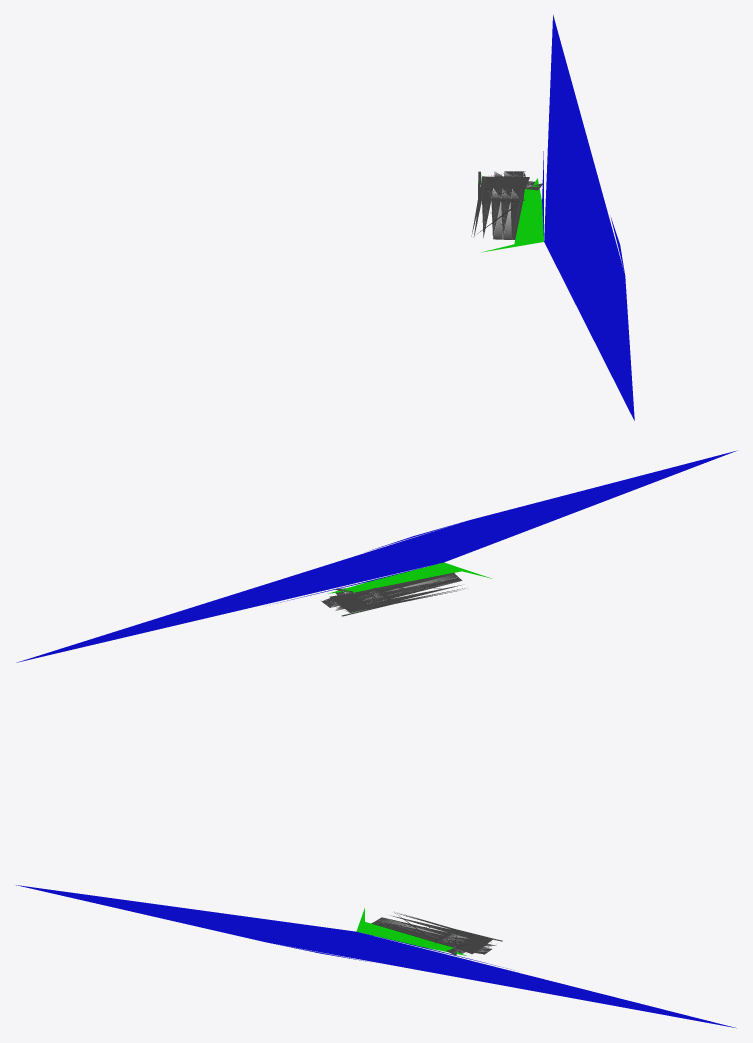
The picture shows the model from 3 angles, top to bottom: view 1: azimuth 30°, elevation 25°; view 2: azimuth 150°, elevation 25°; view 3: azimuth 270°, elevation 25°; orthographic projection. The views are drawn at different scales.
Size of the model in its own units: 245 by 0.32 by 329.
